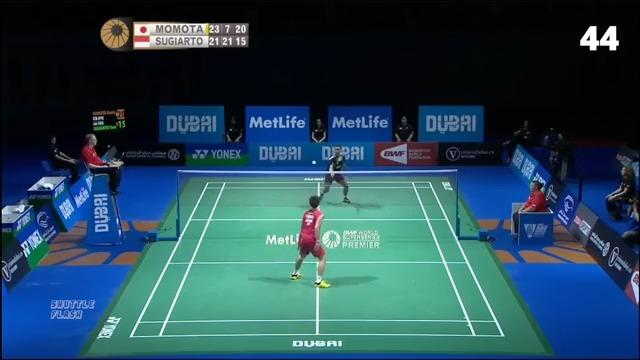Shuttlecock: (310, 158, 322, 166)
